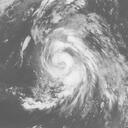cyclone: (38, 26, 102, 102)
